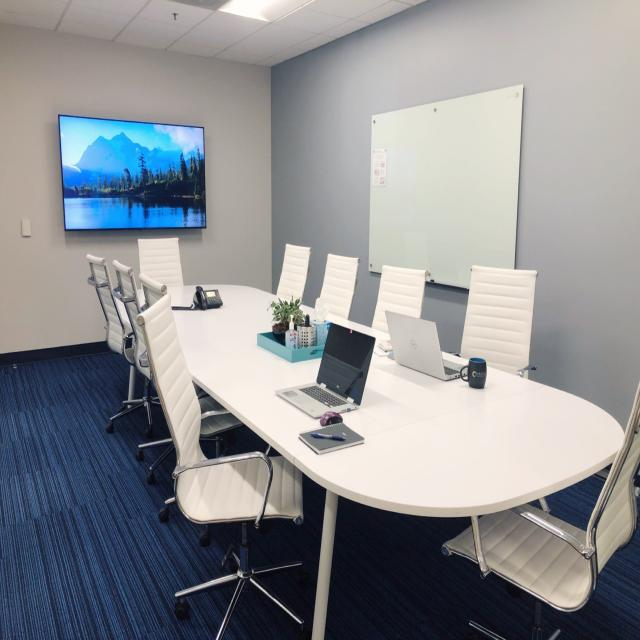chair: (136, 292, 306, 639), (441, 382, 640, 639), (371, 264, 427, 333), (315, 253, 360, 320), (137, 237, 184, 286), (276, 243, 312, 305)
